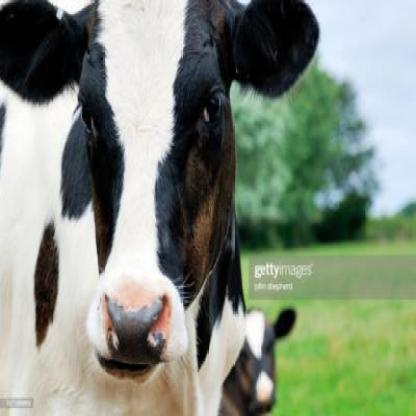lower: (116, 367, 135, 383)
mouth: (88, 282, 187, 386)
upper: (128, 314, 137, 340)
